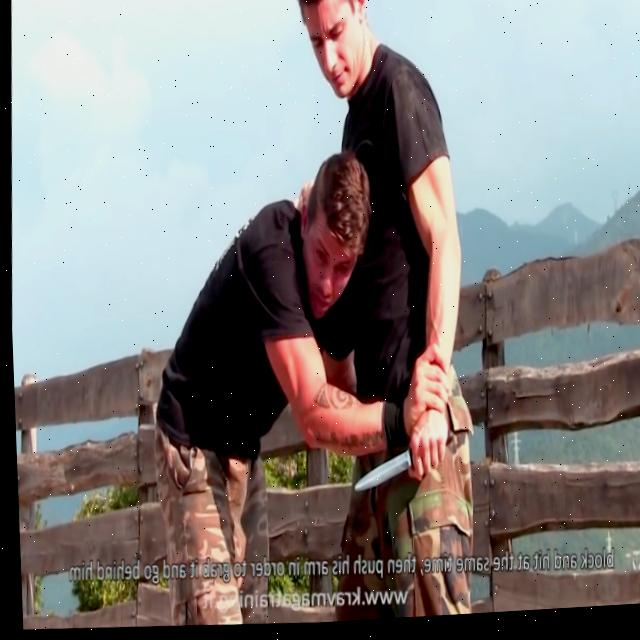knife: (350, 453, 406, 493)
